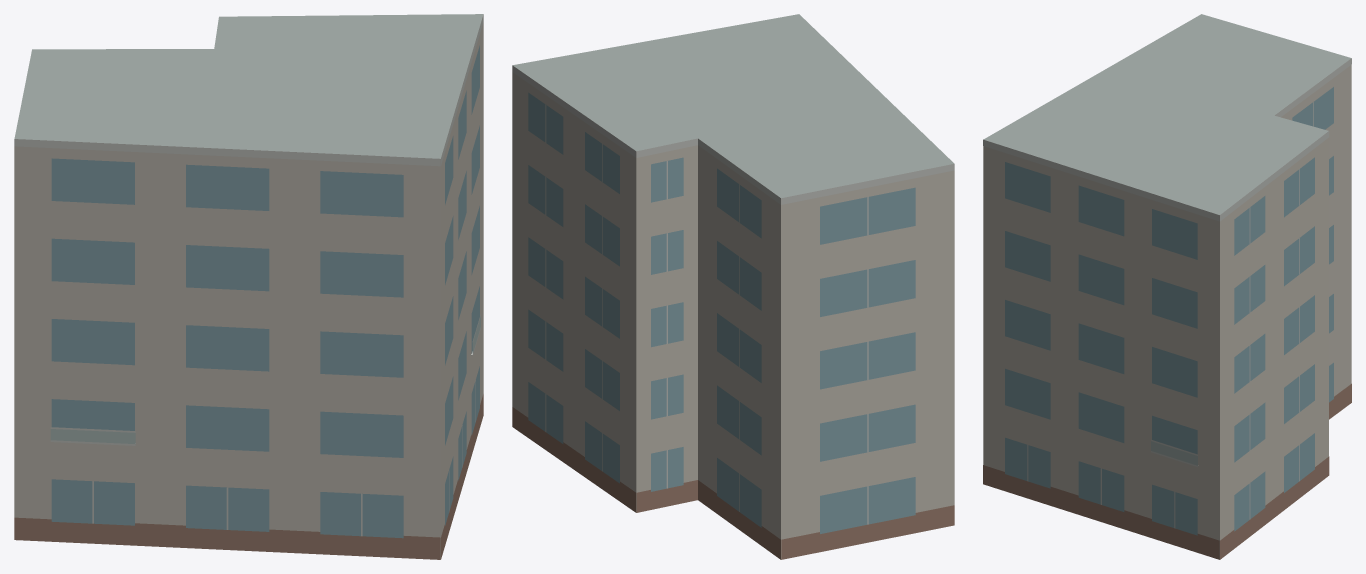
Rendered from survey-upis-32496308.glb.
The picture shows the model from 3 angles, left to right: view 1: azimuth 30°, elevation 25°; view 2: azimuth 150°, elevation 25°; view 3: azimuth 270°, elevation 25°; orthographic projection. The views are drawn at different scales.
Visible parts, largest first — view 1: survey-upis-32496308.tmp; view 2: survey-upis-32496308.tmp; view 3: survey-upis-32496308.tmp.
Boxes of the visible parts, bbox=[...] form: survey-upis-32496308.tmp: bbox=[14, 14, 483, 559]; survey-upis-32496308.tmp: bbox=[512, 14, 954, 559]; survey-upis-32496308.tmp: bbox=[983, 14, 1351, 559].
Bounding box in the file's own units: 16.48 × 13.15 × 12.75.
